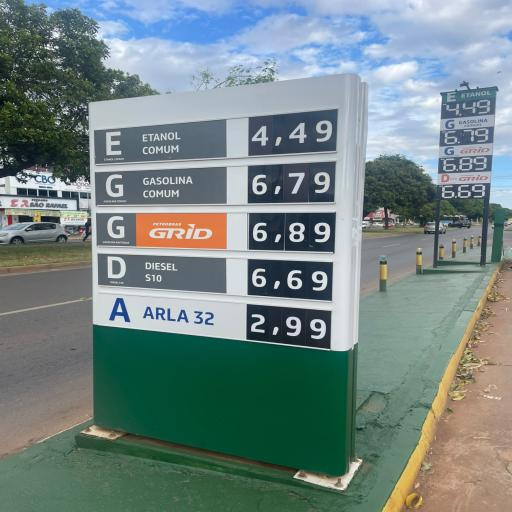ETANOL: (99, 124, 191, 164)
GASOLINA AD: (101, 214, 220, 247)
GASOLINA C: (99, 168, 199, 205)
S10: (102, 253, 193, 290)
placa: (92, 104, 343, 308)
preco: (250, 111, 337, 154), (249, 259, 332, 301), (248, 165, 335, 202), (247, 214, 334, 249)
